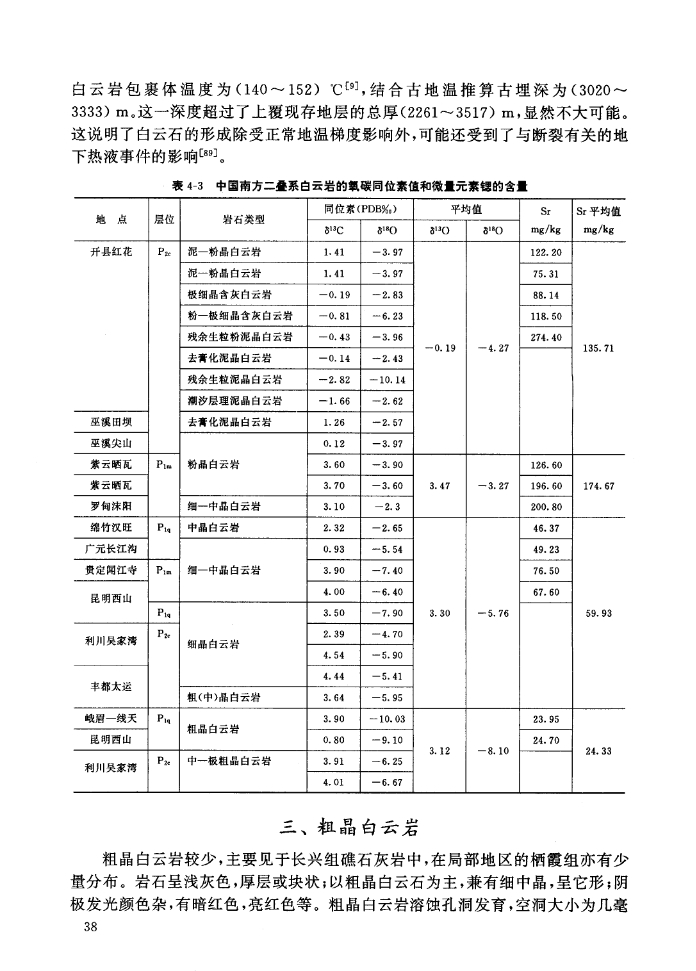table: (72, 197, 629, 793)
